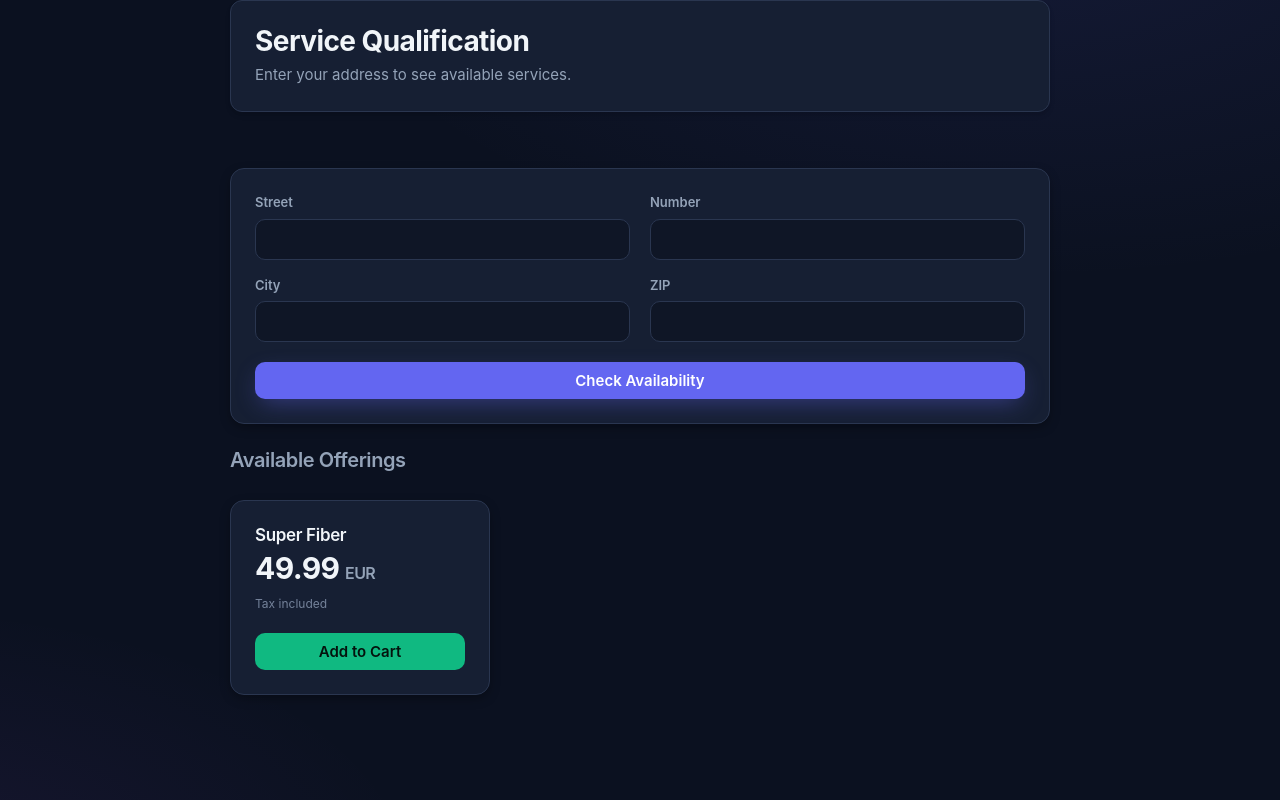
QualifyPage › shows session expired banner when 422 SESSION_EXPIRED error is returned
The width and height of the screenshot is (1280, 800).
Click the button "Add to Cart" at (360, 651), box [255,633,465,670]
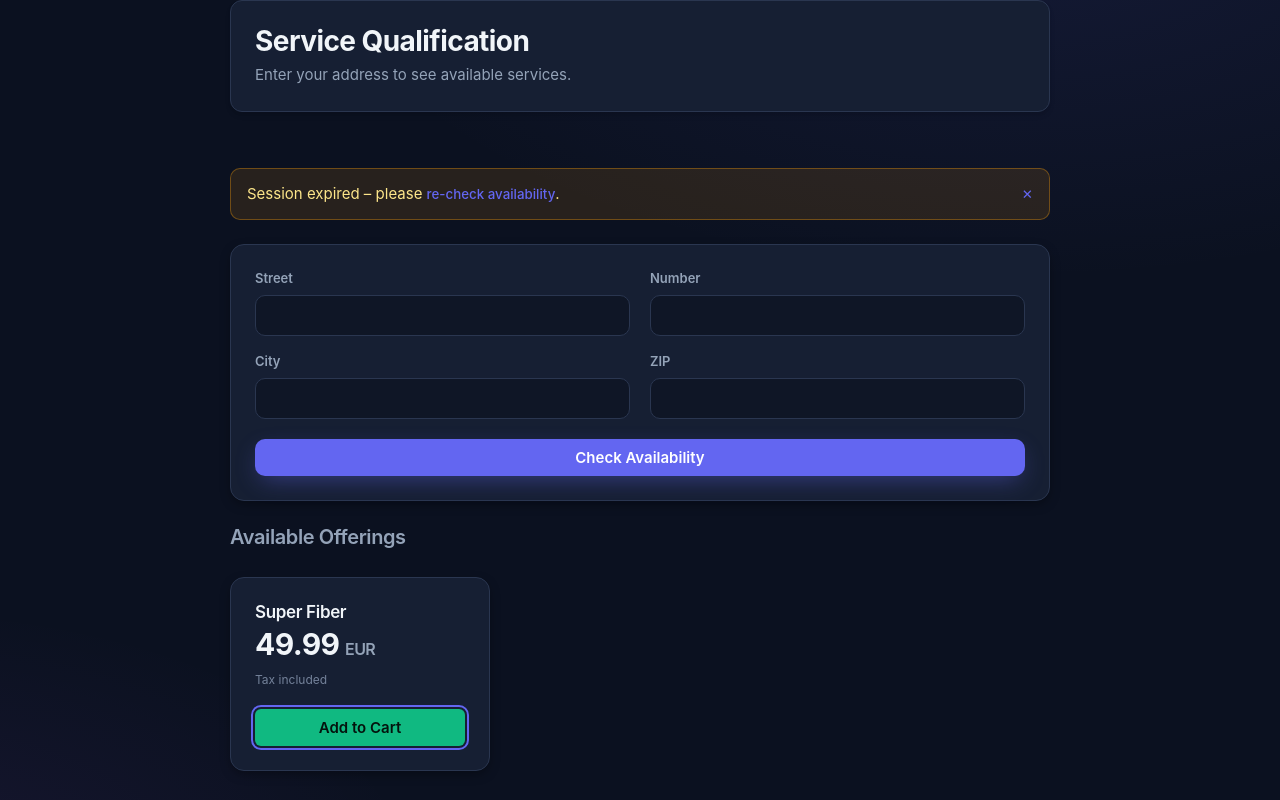
Expected: the message shows "Session expired", [247,184,422,203]
